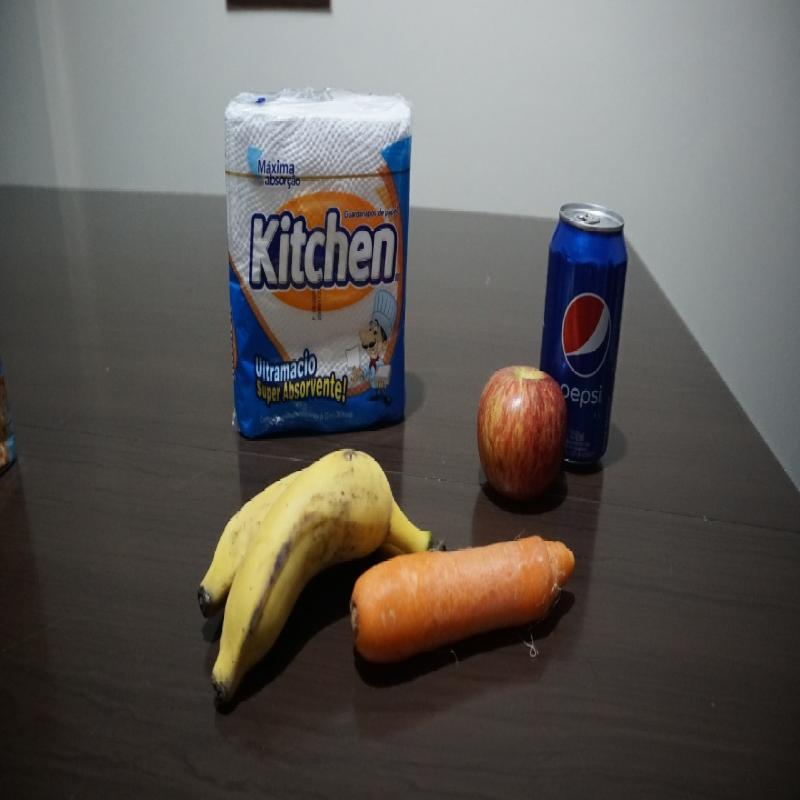Apple: (474, 362, 569, 510)
Banana: (197, 445, 446, 703)
Carrot: (349, 528, 577, 662)
Napkin: (221, 91, 416, 440)
Soda can: (535, 199, 630, 478)
